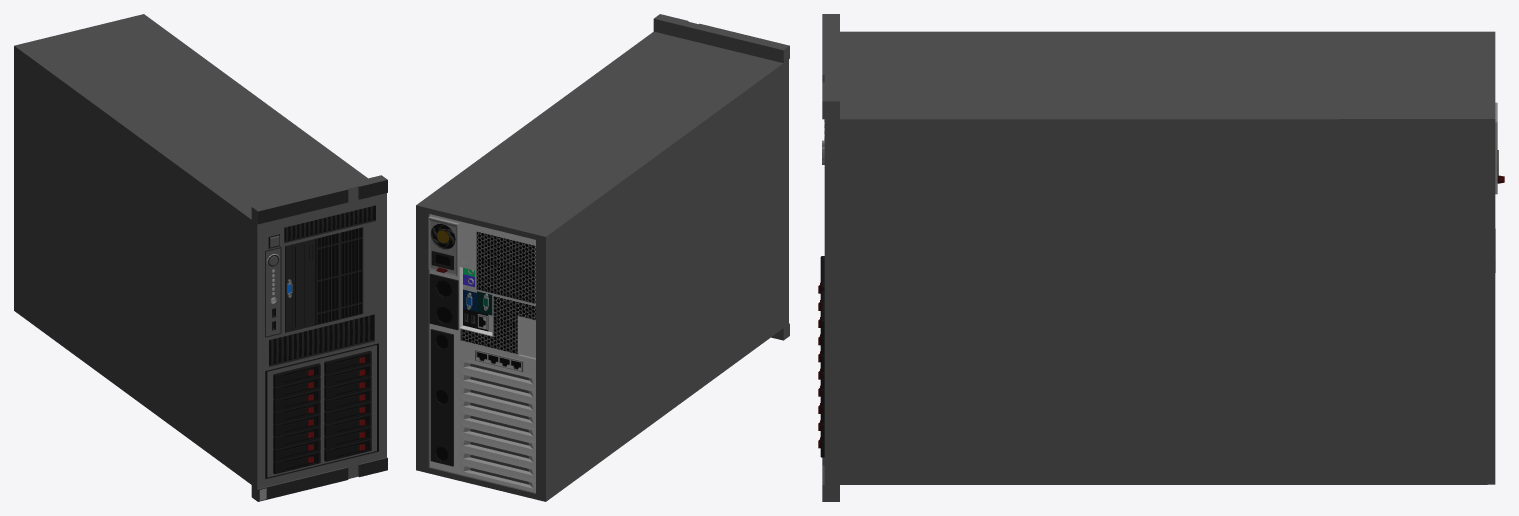
3 renders of one model, left to right at view 1: azimuth 30°, elevation 25°; view 2: azimuth 150°, elevation 25°; view 3: azimuth 270°, elevation 25°, orthographic. The views are drawn at different scales.
Visible parts, largest first — view 1: HPE_ML370_G5; view 2: HPE_ML370_G5; view 3: HPE_ML370_G5.
Boxes of the visible parts, x1,y1,x2,y2 form: HPE_ML370_G5: (14,14,387,501); HPE_ML370_G5: (416,14,789,501); HPE_ML370_G5: (818,14,1504,501).
Bounding box in the file's own units: 223 × 475 × 738.
Materials: 24 (1 with a texture image).
